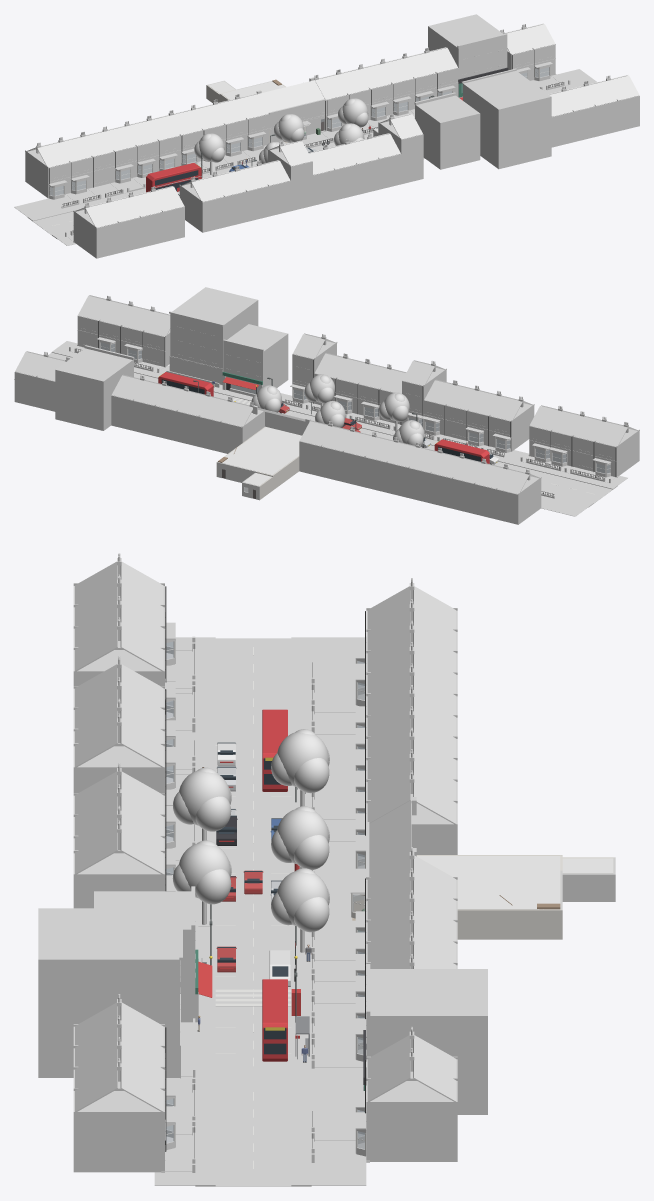
Rendered from house_city.glb.
3 views of the same model, one above another, from view 1: azimuth 30°, elevation 25°; view 2: azimuth 150°, elevation 25°; view 3: azimuth 270°, elevation 25° (orthographic). The views are drawn at different scales.
Parts seen in each view (by area): view 1: Flats_body, Shop_body, Pub_body, Farx3_body, Far0_body, NearLx3_body, Far9_body, Far4_body, Our_roof, G_garden_near_W, G_garden_near, Bus_A_body (+73 smaller); view 2: Flats_body, Pub_body, Shop_body, Ceil_main, NearLx3_body, Farx3_body, G_road_W, Far0_body, Far9_body, NearR0_body, Far4_body, Fary0_body (+75 smaller); view 3: Flats_body, G_road, Pub_body, G_garden_near, G_road_E, G_road_W, Fary3_body, NearRx1_body, Ceil_main, G_garden_near_W, G_pavement_far, Shop_body (+89 smaller).
Boxes of the visible parts, bbox=[...] form: Flats_body: bbox=[463, 71, 551, 169]; Shop_body: bbox=[415, 95, 480, 169]; Pub_body: bbox=[428, 14, 507, 97]; Farx3_body: bbox=[73, 209, 118, 258]; Far0_body: bbox=[179, 184, 224, 232]; NearLx3_body: bbox=[25, 149, 70, 198]; Far9_body: bbox=[378, 121, 423, 184]; Far4_body: bbox=[268, 148, 312, 211]; Our_roof: bbox=[258, 80, 324, 112]; G_garden_near_W: bbox=[14, 182, 131, 216]; G_garden_near: bbox=[123, 109, 414, 189]; Bus_A_body: bbox=[146, 163, 201, 192]; Flats_body: bbox=[170, 287, 258, 371]; Pub_body: bbox=[55, 348, 133, 430]; Shop_body: bbox=[223, 324, 288, 393]; Ceil_main: bbox=[222, 427, 301, 475]; NearLx3_body: bbox=[496, 476, 541, 524]; Farx3_body: bbox=[595, 429, 639, 476]; G_road_W: bbox=[507, 464, 612, 503]; Far0_body: bbox=[489, 403, 534, 451]; Far9_body: bbox=[292, 341, 336, 402]; NearR0_body: bbox=[221, 410, 264, 453]; Far4_body: bbox=[402, 368, 446, 429]; Fary0_body: bbox=[143, 329, 170, 366]; Flats_body: bbox=[38, 908, 179, 1077]; G_road: bbox=[215, 741, 291, 1083]; Pub_body: bbox=[366, 969, 487, 1114]; G_garden_near: bbox=[314, 740, 364, 1062]; G_road_E: bbox=[215, 1083, 291, 1186]; G_road_W: bbox=[215, 638, 291, 740]; Fary3_body: bbox=[73, 1091, 164, 1172]; NearRx1_body: bbox=[366, 1081, 457, 1161]; Ceil_main: bbox=[410, 856, 560, 909]; G_garden_near_W: bbox=[311, 637, 364, 739]; G_pavement_far: bbox=[195, 740, 215, 1082]; Shop_body: bbox=[94, 891, 195, 1022].
Bounding box in the file's own units: 128 × 13.38 × 57.01.
